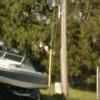Boat: (2, 45, 54, 93)
